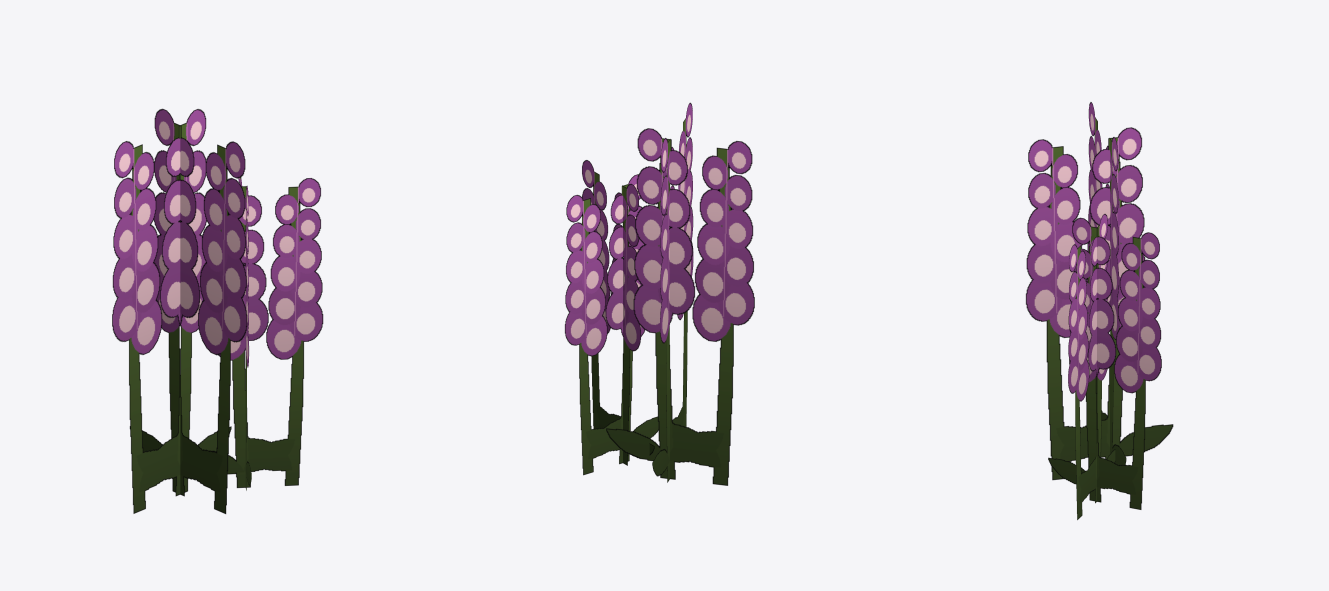
File: prop_flora_foxglove.glb
3 renders of one model, left to right at view 1: azimuth 30°, elevation 25°; view 2: azimuth 150°, elevation 25°; view 3: azimuth 270°, elevation 25°, orthographic. The views are drawn at different scales.
Visible parts, largest first — view 1: foxglove_1, foxglove_0; view 2: foxglove_1, foxglove_0; view 3: foxglove_1, foxglove_0.
Boxes of the visible parts, bbox=[...] form: foxglove_1: bbox=[112, 108, 247, 513]; foxglove_0: bbox=[211, 177, 323, 490]; foxglove_1: bbox=[606, 102, 754, 485]; foxglove_0: bbox=[565, 160, 658, 475]; foxglove_1: bbox=[1026, 102, 1173, 480]; foxglove_0: bbox=[1048, 214, 1161, 519].
Bounding box in the file's own units: 0.7036 × 0.7027 × 0.6802.
1 material, 1 textured.
